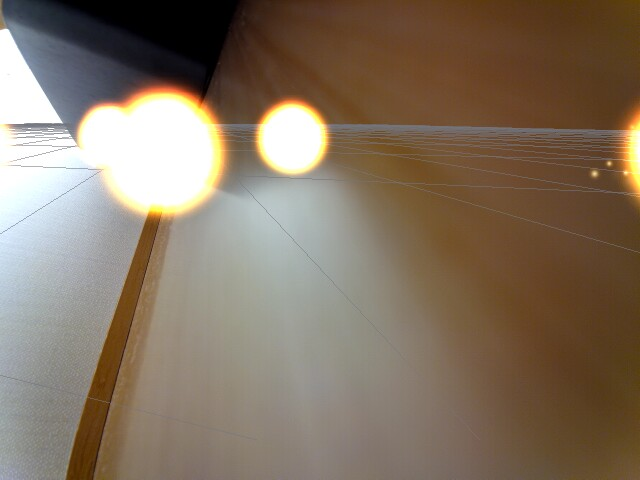firebig: (120, 71, 233, 227)
